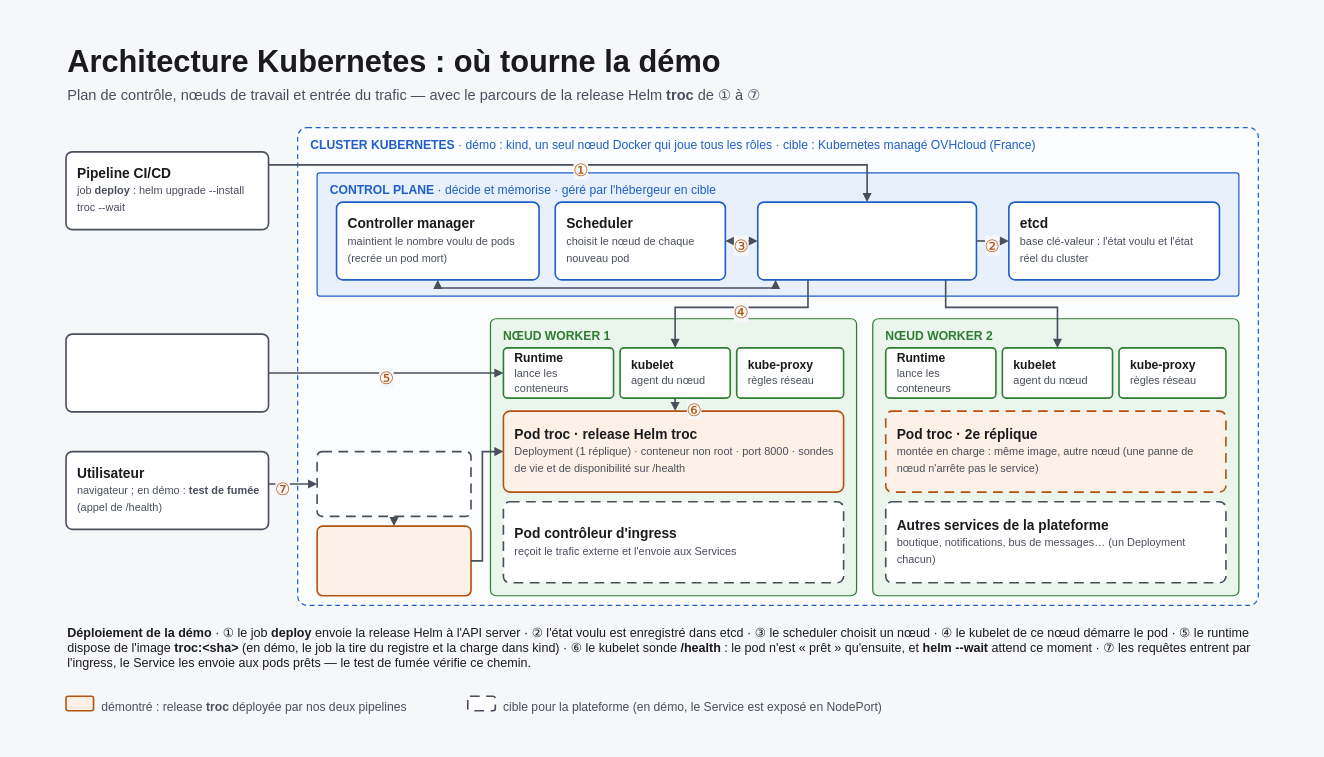
The diagram is 1324 pixels wide and 757 high, and some of its shapes have lost their labels. Each missing label, with the centre of its shape:
"API server porte d'entrée unique du cluster : tout passe par lui" belongs at point 867,240.
"Ingress entrée HTTP(S), routage par URL" belongs at point 393,483.
"Registre d'images ghcr.io ou registre GitLab · image troc:<sha>" belongs at point 167,372.
"Service troc port 8000, répartit vers les pods prêts" belongs at point 393,560.
